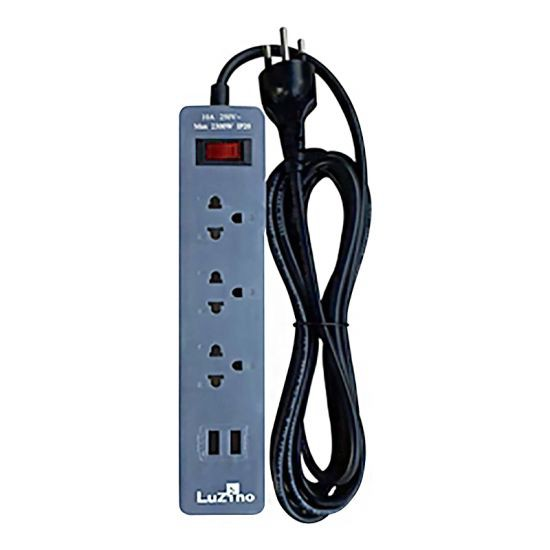Three_eye_plug: (172, 89, 282, 517)
